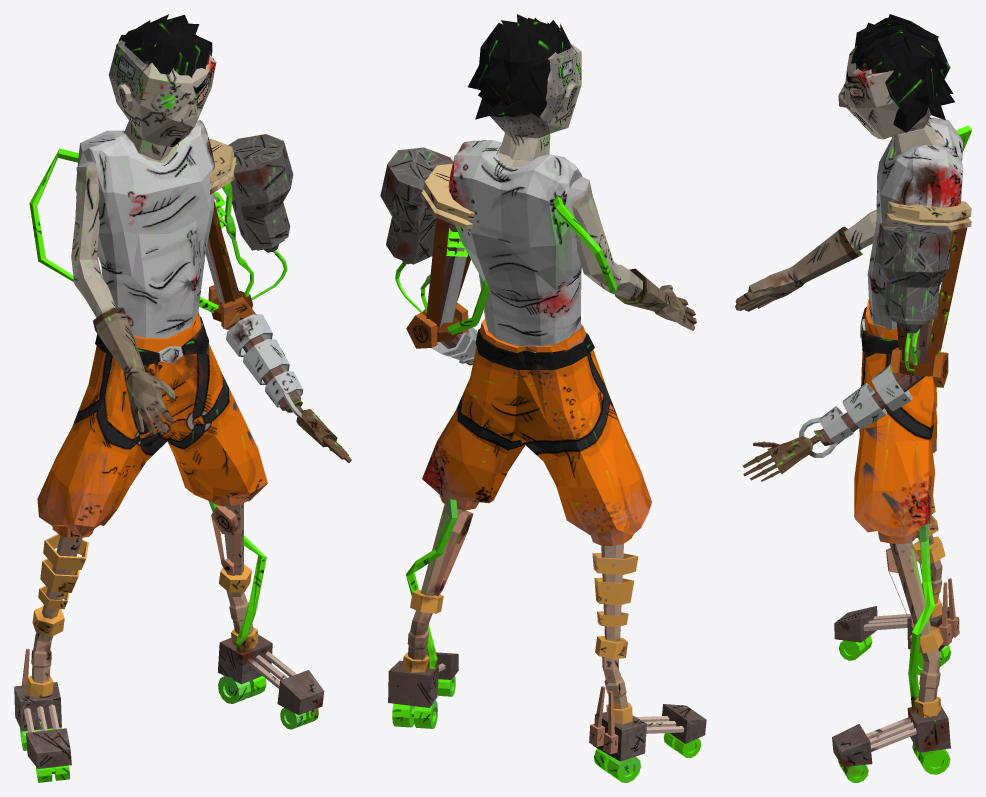
The model's file is CyborgFINALAnimation_000031.obj.
3 renders of one model, left to right at view 1: azimuth 30°, elevation 25°; view 2: azimuth 150°, elevation 25°; view 3: azimuth 270°, elevation 25°, orthographic. The views are drawn at different scales.
Parts seen in each view (by area): view 1: CyborgMesh_Cube.002; view 2: CyborgMesh_Cube.002; view 3: CyborgMesh_Cube.002.
Boxes of the visible parts, bbox=[...] form: CyborgMesh_Cube.002: bbox=[14, 14, 351, 782]; CyborgMesh_Cube.002: bbox=[380, 14, 706, 782]; CyborgMesh_Cube.002: bbox=[735, 14, 971, 782].
Size of the model in its own units: 4.02 by 9.65 by 2.95.
